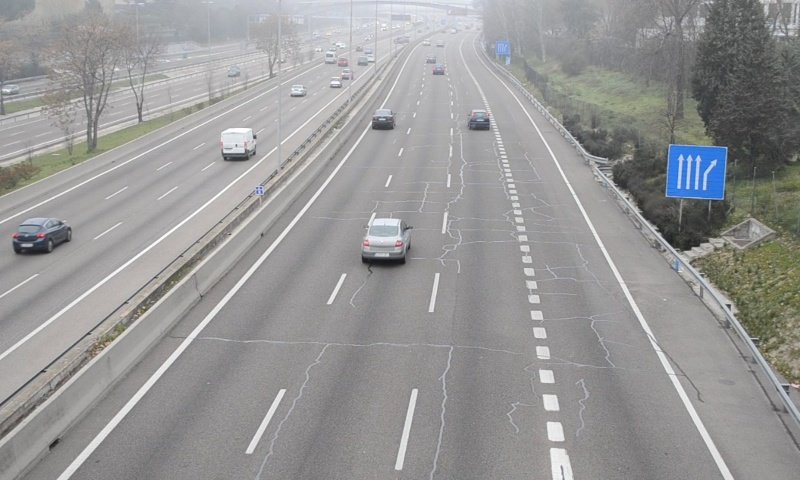car: (362, 219, 408, 261), (371, 108, 394, 130), (468, 110, 490, 131)
